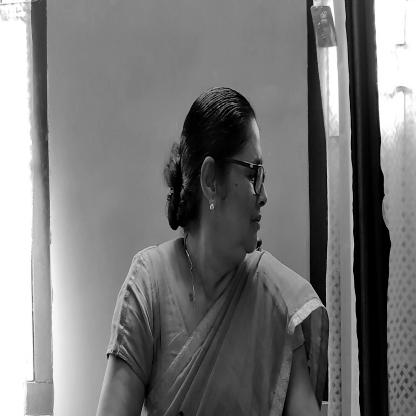Distracted: (183, 81, 267, 275)
